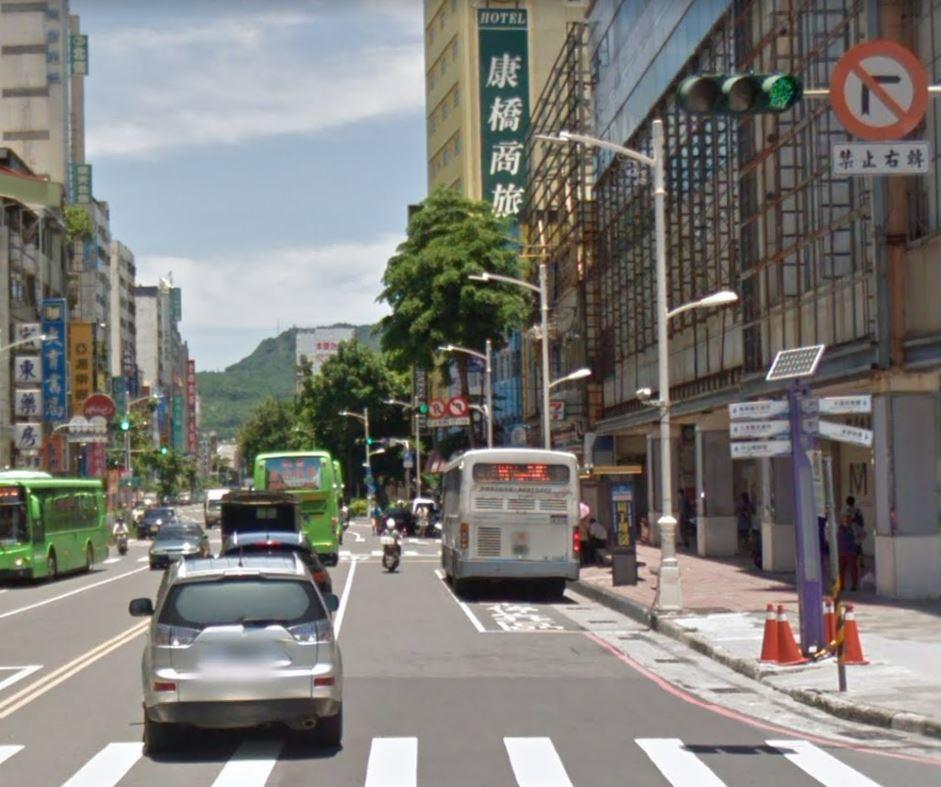green_traffic_light: (676, 68, 804, 118)
